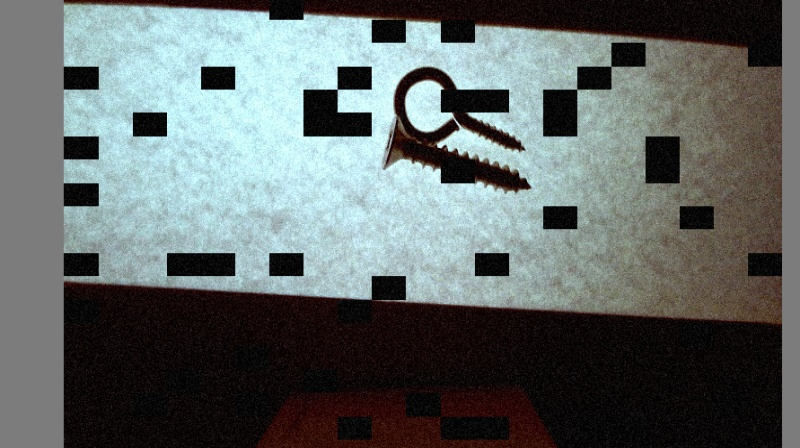O001: (387, 64, 526, 154)
S001: (382, 116, 533, 191)
